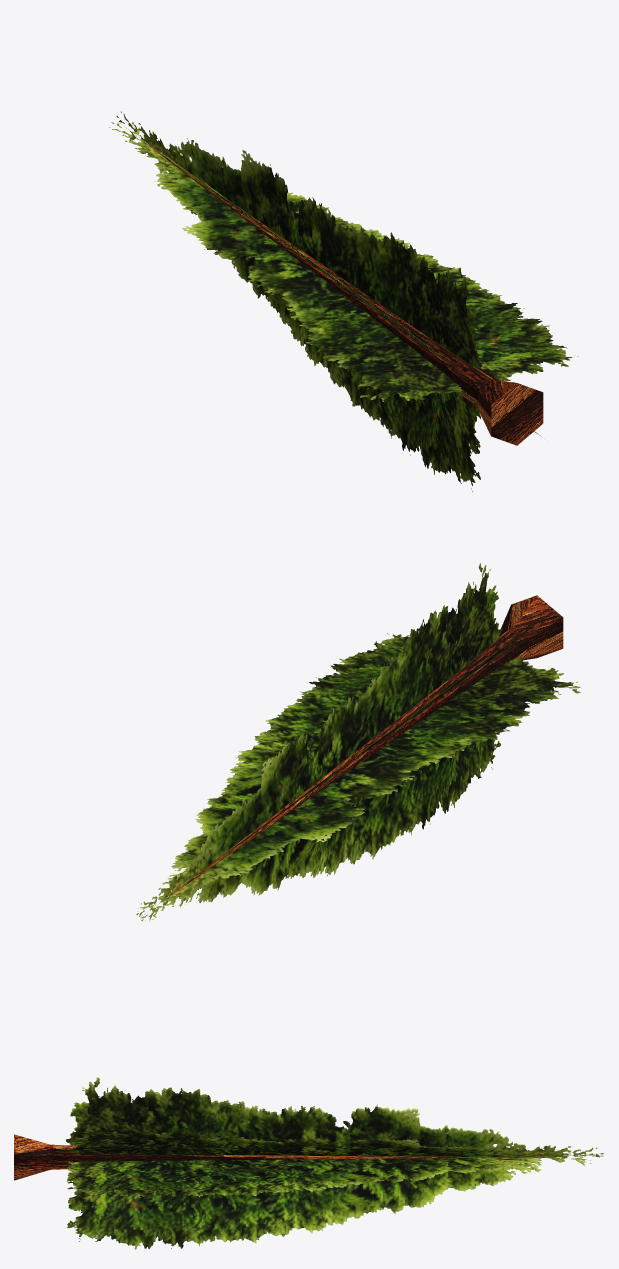
The model's file is Arbol1.fbx.
3 views of the same model, one above another, from view 1: azimuth 30°, elevation 25°; view 2: azimuth 150°, elevation 25°; view 3: azimuth 270°, elevation 25° (orthographic). The views are drawn at different scales.
Parts seen in each view (by area): view 1: Cylinder.001; view 2: Cylinder.001; view 3: Cylinder.001.
Boxes of the visible parts, x1,y1,x2,y2 form: Cylinder.001: [109, 111, 578, 491]; Cylinder.001: [136, 563, 580, 921]; Cylinder.001: [14, 1077, 603, 1249].
Size of the model in its own units: 3.14 by 9.78 by 3.14.
2 materials, 2 textured.
